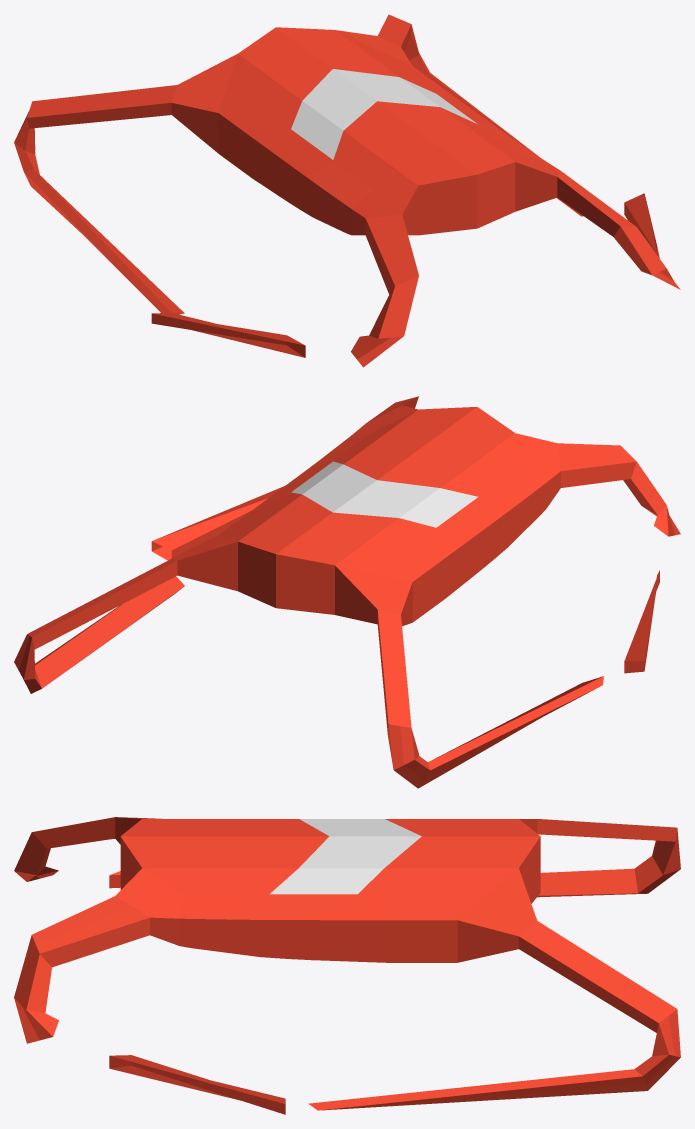
The model's file is backpack.fbx.
The picture shows the model from 3 angles, top to bottom: view 1: azimuth 30°, elevation 25°; view 2: azimuth 150°, elevation 25°; view 3: azimuth 270°, elevation 25°; orthographic projection. The views are drawn at different scales.
Parts seen in each view (by area): view 1: Backpack; view 2: Backpack; view 3: Backpack.
Boxes of the visible parts, x1,y1,x2,y2 form: Backpack: [14, 14, 680, 367]; Backpack: [14, 396, 680, 788]; Backpack: [14, 817, 680, 1114].
Size of the model in its own units: 10.02 by 3.18 by 11.26.
